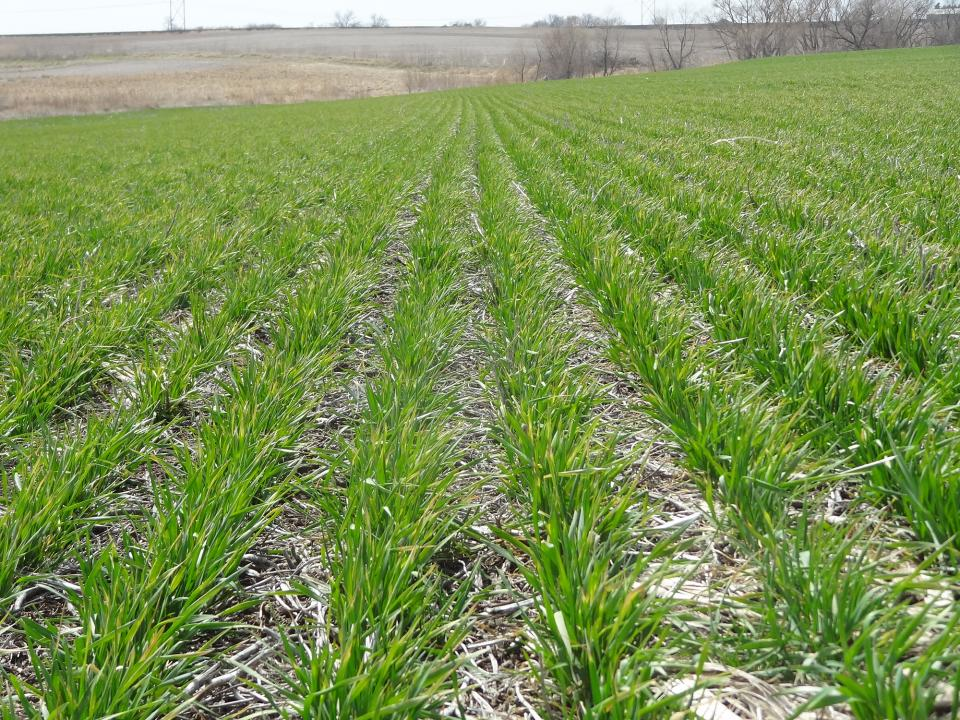Wheat: (307, 429, 477, 720)
